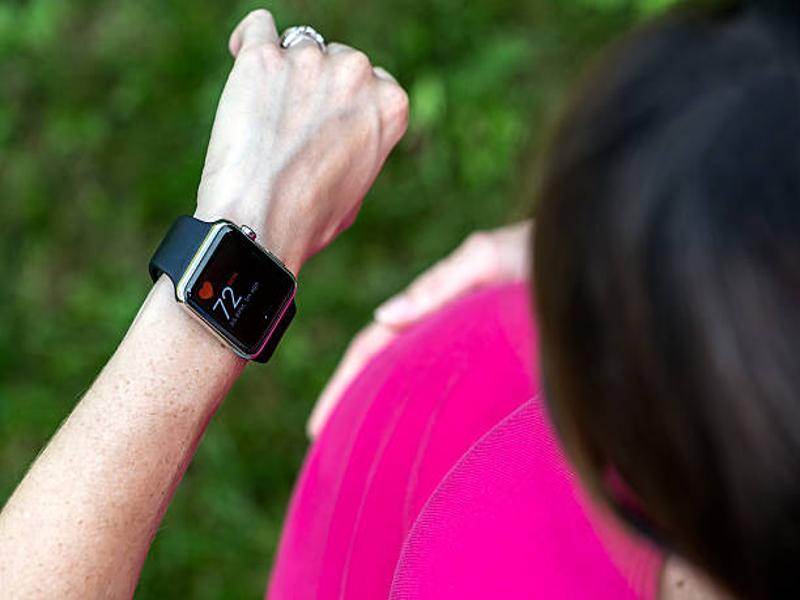watch: (150, 213, 303, 363)
